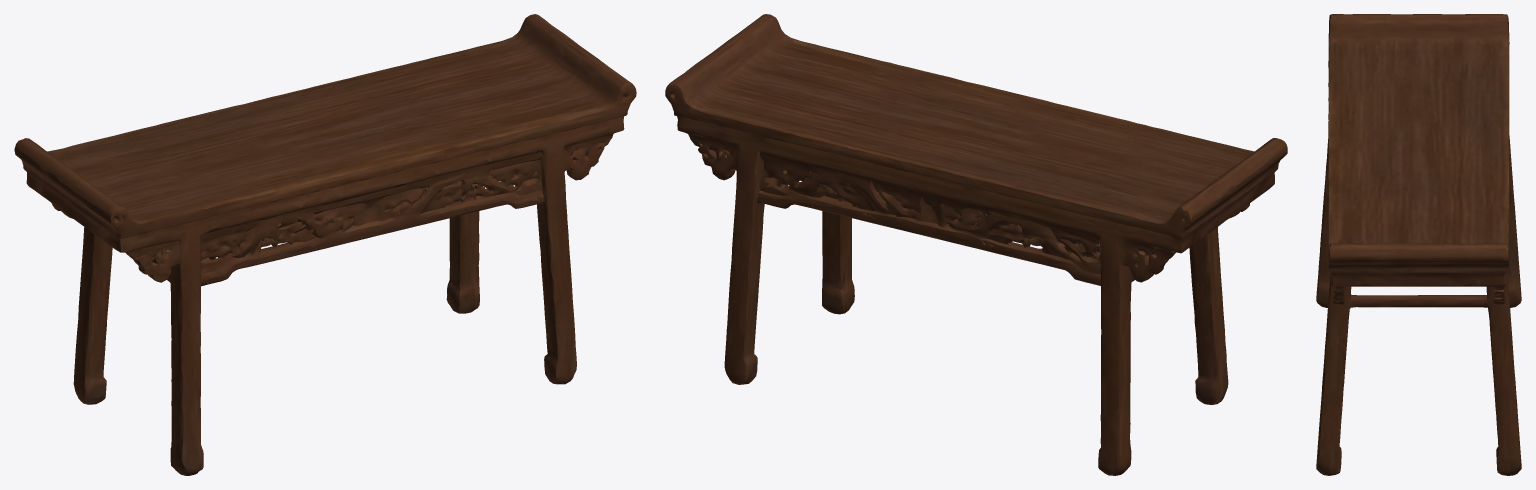
File: long-table.glb
3 renders of one model, left to right at view 1: azimuth 30°, elevation 25°; view 2: azimuth 150°, elevation 25°; view 3: azimuth 270°, elevation 25°, orthographic. The views are drawn at different scales.
Visible parts, largest first — view 1: geometry_0; view 2: geometry_0; view 3: geometry_0.
Part boxes in pixels (bbox=[...]): geometry_0: bbox=[14, 14, 636, 475]; geometry_0: bbox=[665, 14, 1287, 475]; geometry_0: bbox=[1316, 14, 1521, 475].
Size of the model in its own units: 1.2 by 0.6102 by 0.4389.
1 material, 1 textured.
